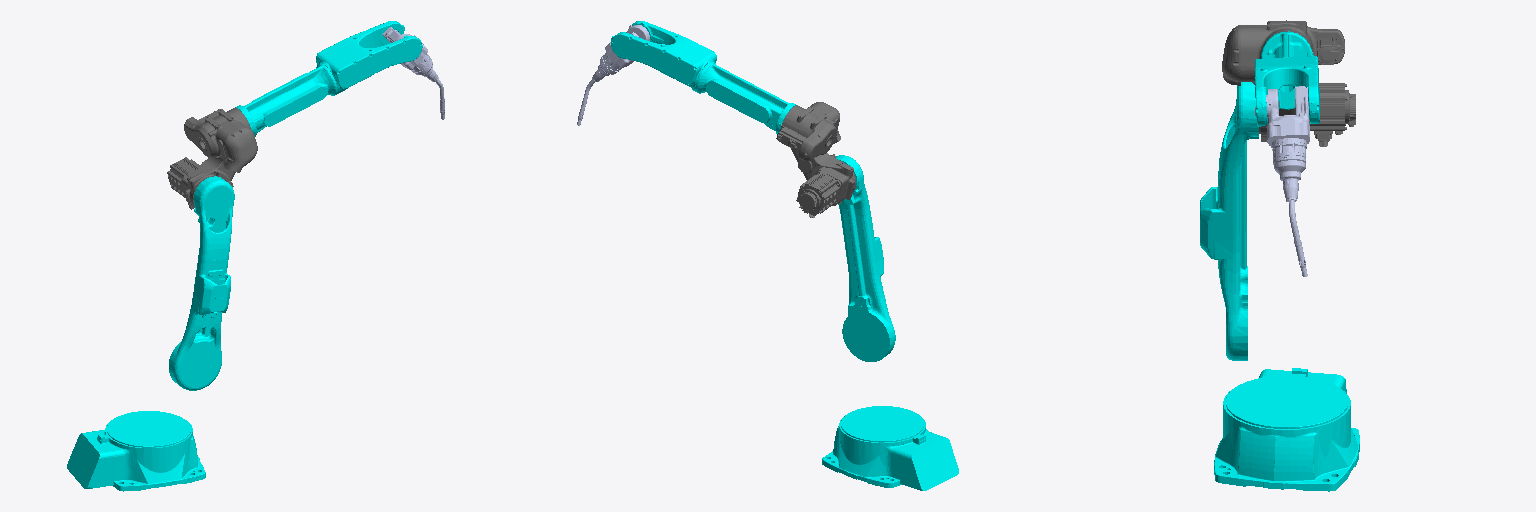
The robot description file, URDF, robot "cs-platform":
<?xml version="1.0" encoding="utf-8"?>
<!-- This URDF was automatically created by SolidWorks to URDF Exporter! Originally created by [author] ([email redacted]) 
     Commit Version: 1.6.0-4-g7f85cfe  Build Version: 1.6.7995.38578
     For more information, please see http://wiki.ros.org/sw_urdf_exporter -->
<robot
  name="cs-platform">
  <link
    name="base_link">
    <inertial>
      <origin
        xyz="-0.03913 0.0070139 0.08155"
        rpy="0 0 0" />
      <mass
        value="28.04" />
      <inertia
        ixx="0.34381"
        ixy="0.041326"
        ixz="-0.013526"
        iyy="0.569"
        iyz="0.0024808"
        izz="0.75298" />
    </inertial>
    <visual>
      <origin
        xyz="0 0 0"
        rpy="0 0 0" />
      <geometry>
        <mesh
          filename="base_link.STL" />
      </geometry>
      <material
        name="">
        <color
          rgba="0 1 1 1" />
      </material>
    </visual>
    <collision>
      <origin
        xyz="0 0 0"
        rpy="0 0 0" />
      <geometry>
        <mesh
          filename="base_link.STL" />
      </geometry>
    </collision>
  </link>
  <link
    name="Link1">
    <inertial>
      <origin
        xyz="0.00158635097612589 0.0248023842326881 0.123923152925311"
        rpy="0 0 0" />
      <mass
        value="28.8567336276487" />
      <inertia
        ixx="0.803009608029418"
        ixy="0.205231281779725"
        ixz="-0.085965577991559"
        iyy="0.847552979803271"
        iyz="-0.0483040564088658"
        izz="0.876738391357162" />
    </inertial>
    <visual>
      <origin
        xyz="0 0 0"
        rpy="0 0 0" />
      <geometry>
        <mesh
          filename="Link1.STL" />
      </geometry>
      <material
        name="">
        <color
          rgba="0 1 1 1" />
      </material>
    </visual>
    <collision>
      <origin
        xyz="0 0 0"
        rpy="0 0 0" />
      <geometry>
        <mesh
          filename="Link1.STL" />
      </geometry>
    </collision>
  </link>
  <joint
    name="Joint1"
    type="revolute">
    <origin
      xyz="0 0 0.22863"
      rpy="0 0 0" />
    <parent
      link="base_link" />
    <child
      link="Link1" />
    <axis
      xyz="0 0 1" />
    <limit
      lower="-2.879"
      upper="2.879"
      effort="0"
      velocity="3.543" />
  </joint>
  <link
    name="Link2">
    <inertial>
      <origin
        xyz="0.047236 0.31489 0.15029"
        rpy="0 0 0" />
      <mass
        value="7.8067" />
      <inertia
        ixx="0.71928"
        ixy="-0.10182"
        ixz="0.0030339"
        iyy="0.044873"
        iyz="0.020921"
        izz="0.74689" />
    </inertial>
    <visual>
      <origin
        xyz="0 0 0"
        rpy="0 0 0" />
      <geometry>
        <mesh
          filename="Link2.STL" />
      </geometry>
      <material
        name="">
        <color
          rgba="0 1 1 1" />
      </material>
    </visual>
    <collision>
      <origin
        xyz="0 0 0"
        rpy="0 0 0" />
      <geometry>
        <mesh
          filename="Link2.STL" />
      </geometry>
    </collision>
  </link>
  <joint
    name="Joint2"
    type="revolute">
    <origin
      xyz="0.15 -0.0005 0.2882"
      rpy="1.5708 0 0" />
    <parent
      link="Link1" />
    <child
      link="Link2" />
    <axis
      xyz="0 0 1" />
    <limit
      lower="-2.53"
      upper="1.396"
      effort="0"
      velocity="3.543" />
  </joint>
  <link
    name="Link3">
    <inertial>
      <origin
        xyz="0.0659972394160701 0.130857734120813 0.0355864113392532"
        rpy="0 0 0" />
      <mass
        value="13.1166046153447" />
      <inertia
        ixx="0.174274946930321"
        ixy="-0.0433655792740019"
        ixz="-0.00747810943354871"
        iyy="0.101309937679794"
        iyz="-0.00316402455691545"
        izz="0.172445673393526" />
    </inertial>
    <visual>
      <origin
        xyz="0 0 0"
        rpy="0 0 0" />
      <geometry>
        <mesh
          filename="Link3.STL" />
      </geometry>
      <material
        name="">
        <color
          rgba="0.490196078431373 0.490196078431373 0.490196078431373 1" />
      </material>
    </visual>
    <collision>
      <origin
        xyz="0 0 0"
        rpy="0 0 0" />
      <geometry>
        <mesh
          filename="Link3.STL" />
      </geometry>
    </collision>
  </link>
  <joint
    name="Joint3"
    type="revolute">
    <origin
      xyz="0.11219 0.75167 -0.0345"
      rpy="0 0 0" />
    <parent
      link="Link2" />
    <child
      link="Link3" />
    <axis
      xyz="0 0 1" />
    <limit
      lower="-1.3089"
      upper="2.53"
      effort="0"
      velocity="3.735" />
  </joint>
  <link
    name="Link4">
    <inertial>
      <origin
        xyz="-0.0144781004331105 -0.000589960132840222 0.439539244100347"
        rpy="0 0 0" />
      <mass
        value="8.67995861104952" />
      <inertia
        ixx="0.466123989606163"
        ixy="0.00128815770859453"
        ixz="0.0153071791612976"
        iyy="0.451160790812414"
        iyz="0.000151087086454249"
        izz="0.0365623517406693" />
    </inertial>
    <visual>
      <origin
        xyz="0 0 0"
        rpy="0 0 0" />
      <geometry>
        <mesh
          filename="Link4.STL" />
      </geometry>
      <material
        name="">
        <color
          rgba="0 1 1 1" />
      </material>
    </visual>
    <collision>
      <origin
        xyz="0 0 0"
        rpy="0 0 0" />
      <geometry>
        <mesh
          filename="Link4.STL" />
      </geometry>
    </collision>
  </link>
  <joint
    name="Joint4"
    type="revolute">
    <origin
      xyz="0.20631 0.26116 0.033532"
      rpy="-1.5708 0 -1.3134" />
    <parent
      link="Link3" />
    <child
      link="Link4" />
    <axis
      xyz="0 0 1" />
    <limit
      lower="-3.316"
      upper="3.316"
      effort="0"
      velocity="6.841" />
  </joint>
  <link
    name="Link5">
    <inertial>
      <origin
        xyz="-0.0396071171641852 -0.0283029911060826 0.00212550376465808"
        rpy="0 0 0" />
      <mass
        value="1.23506730012489" />
      <inertia
        ixx="0.00357213077847957"
        ixy="-0.000479513904373834"
        ixz="-0.000133545403042685"
        iyy="0.00375970678613723"
        iyz="-0.000106546482140121"
        izz="0.00352781479388867" />
    </inertial>
    <visual>
      <origin
        xyz="0 0 0"
        rpy="0 0 0" />
      <geometry>
        <mesh
          filename="Link5.STL" />
      </geometry>
      <material
        name="">
        <color
          rgba="0.792156862745098 0.819607843137255 0.933333333333333 1" />
      </material>
    </visual>
    <collision>
      <origin
        xyz="0 0 0"
        rpy="0 0 0" />
      <geometry>
        <mesh
          filename="Link5.STL" />
      </geometry>
    </collision>
  </link>
  <joint
    name="Joint5"
    type="revolute">
    <origin
      xyz="-8.002E-05 0.0015297 0.816"
      rpy="-1.5708 -0.25745 3.1416" />
    <parent
      link="Link4" />
    <child
      link="Link5" />
    <axis
      xyz="0 0 1" />
    <limit
      lower="-3.665"
      upper="0.8726"
      effort="0"
      velocity="4.817" />
  </joint>
  <link
    name="Link6">
    <inertial>
      <origin
        xyz="-0.0031905 -0.0010854 0.083934"
        rpy="0 0 0" />
      <mass
        value="0.43214" />
      <inertia
        ixx="0.0034002"
        ixy="-2.1327E-05"
        ixz="0.00031788"
        iyy="0.0034566"
        iyz="0.00010768"
        izz="0.00059726" />
    </inertial>
    <visual>
      <origin
        xyz="0 0 0"
        rpy="0 0 0" />
      <geometry>
        <mesh
          filename="Link6.STL" />
      </geometry>
      <material
        name="">
        <color
          rgba="0.79216 0.81961 0.93333 1" />
      </material>
    </visual>
    <collision>
      <origin
        xyz="0 0 0"
        rpy="0 0 0" />
      <geometry>
        <mesh
          filename="Link6.STL" />
      </geometry>
    </collision>
  </link>
  <joint
    name="Joint6"
    type="revolute">
    <origin
      xyz="-0.088835 -0.068216 -0.0033996"
      rpy="1.6184 0 -0.8894" />
    <parent
      link="Link5" />
    <child
      link="Link6" />
    <axis
      xyz="0 0 1" />
    <limit
      lower="-3.839"
      upper="3.839"
      effort="0"
      velocity="23.666" />
  </joint>
  <link
    name="tool">
    <inertial>
      <origin
        xyz="0 0 0"
        rpy="0 0 0" />
      <mass
        value="1e-10" />
      <inertia
        ixx="0.0001"
        ixy="0"
        ixz="0"
        iyy="0.0001"
        iyz="0"
        izz="0.0001" />
    </inertial>
    <visual>
      <origin
        xyz="0 0 0"
        rpy="0 0 0" />
      <geometry>
        <mesh
          filename="tool.STL" />
      </geometry>
      <material
        name="">
        <color
          rgba="0.79216 0.81961 0.93333 1" />
      </material>
    </visual>
    <collision>
      <origin
        xyz="0 0 0"
        rpy="0 0 0" />
      <geometry>
        <mesh
          filename="tool.STL" />
      </geometry>
    </collision>
  </link>
  <joint
    name="tool_joint"
    type="fixed">
    <origin
      xyz="-0.089885 -0.030538 0.38983"
      rpy="0.15143 -0.52147 0.027395" />
    <parent
      link="Link6" />
    <child
      link="tool" />
    <axis
      xyz="0 0 0" />
    <limit
      lower="-2.879"
      upper="2.879"
      effort="0"
      velocity="3.543" />
  </joint>
</robot>

--- Render facts (derived) ---
3 views of the same robot in one strip: view 1: azimuth 30°, elevation 25°; view 2: azimuth 150°, elevation 25°; view 3: azimuth 270°, elevation 25° (orthographic).
Model cs-platform with 8 links and 7 joints (6 revolute, 1 fixed), rooted at base_link, posed all joints at 0.
Visible links, largest first — view 1: base_link, Link2, Link4, Link3, Link6; view 2: base_link, Link2, Link4, Link3, Link6; view 3: base_link, Link2, Link3, Link4, Link6, Link5.
Link boxes in pixels (x1=…): base_link: x1=67, y1=411, x2=205, y2=491; Link2: x1=169, y1=176, x2=234, y2=390; Link4: x1=235, y1=21, x2=422, y2=136; Link3: x1=167, y1=108, x2=257, y2=209; Link6: x1=411, y1=54, x2=444, y2=119; base_link: x1=822, y1=406, x2=958, y2=490; Link2: x1=836, y1=155, x2=895, y2=361; Link4: x1=611, y1=21, x2=795, y2=133; Link3: x1=776, y1=102, x2=855, y2=217; Link6: x1=577, y1=52, x2=621, y2=125; base_link: x1=1214, y1=368, x2=1359, y2=491; Link2: x1=1200, y1=82, x2=1258, y2=360; Link3: x1=1222, y1=20, x2=1355, y2=146; Link4: x1=1255, y1=31, x2=1319, y2=126; Link6: x1=1271, y1=138, x2=1307, y2=276; Link5: x1=1266, y1=86, x2=1309, y2=145.
Bounding box of the posed robot: 1.86 × 0.4743 × 1.81 m (x, y, z).
Meshes: 8 distinct files referenced, 7 mesh visuals loaded (7 binary STL); not drawn: 1 (reference not matched to a file when rendering).